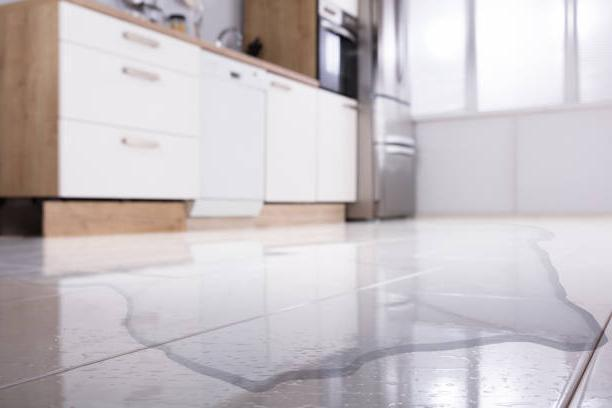water accumulation: (0, 227, 611, 397)
